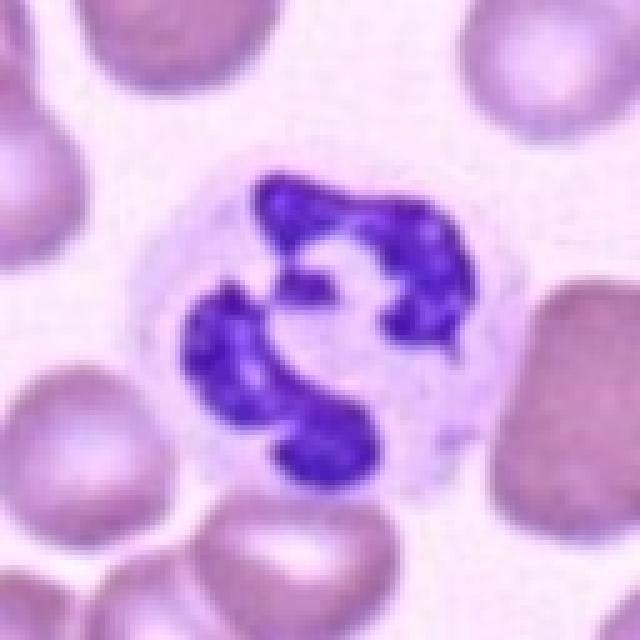neutro: (121, 104, 514, 508)
